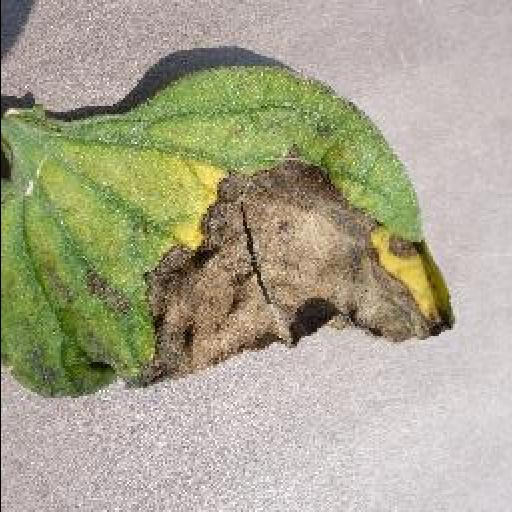disease_tomato: (0, 64, 454, 402)
